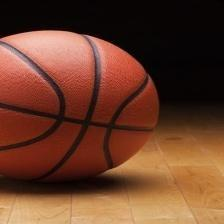Sports-Ball: (0, 29, 162, 192)
